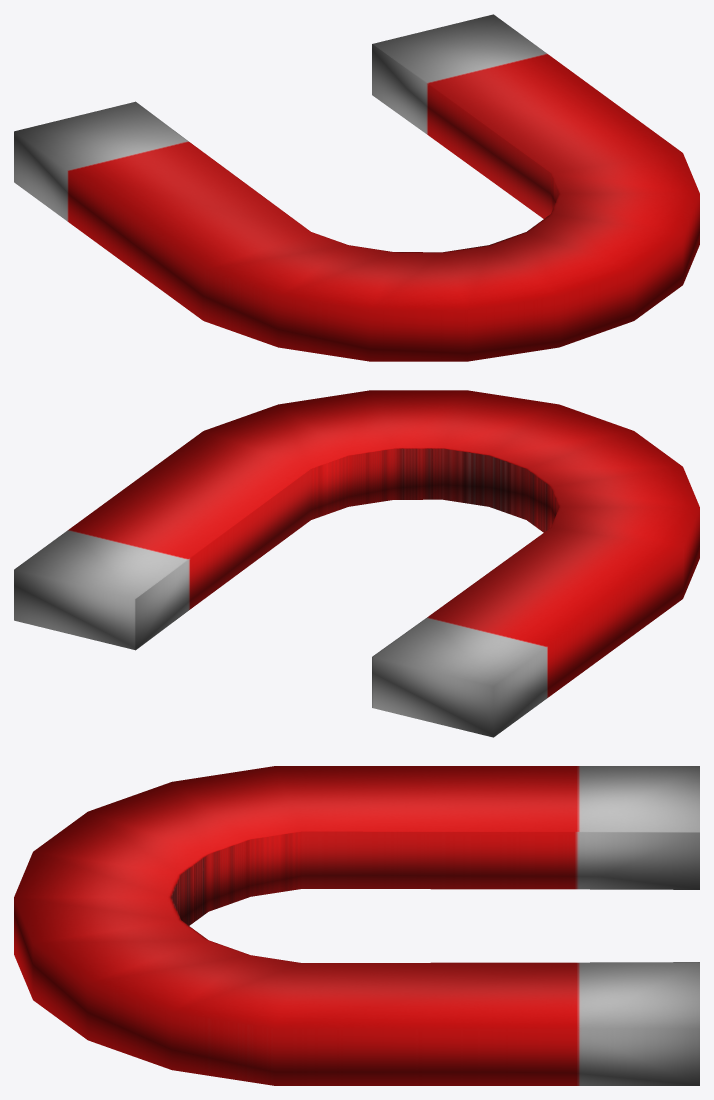
Rendered from MAGNET.fbx.
3 renders of one model, top to bottom at view 1: azimuth 30°, elevation 25°; view 2: azimuth 150°, elevation 25°; view 3: azimuth 270°, elevation 25°, orthographic. The views are drawn at different scales.
Parts seen in each view (by area): view 1: Magnet; view 2: Magnet; view 3: Magnet.
Boxes of the visible parts, x1,y1,x2,y2 form: Magnet: (14,14,699,361); Magnet: (14,390,699,737); Magnet: (14,766,699,1085).
Bounding box in the file's own units: 197 × 20 × 217.
